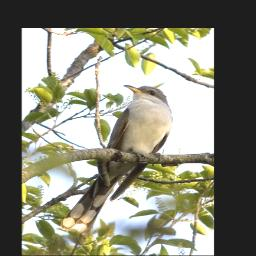Cuckoo: (60, 85, 173, 233)
